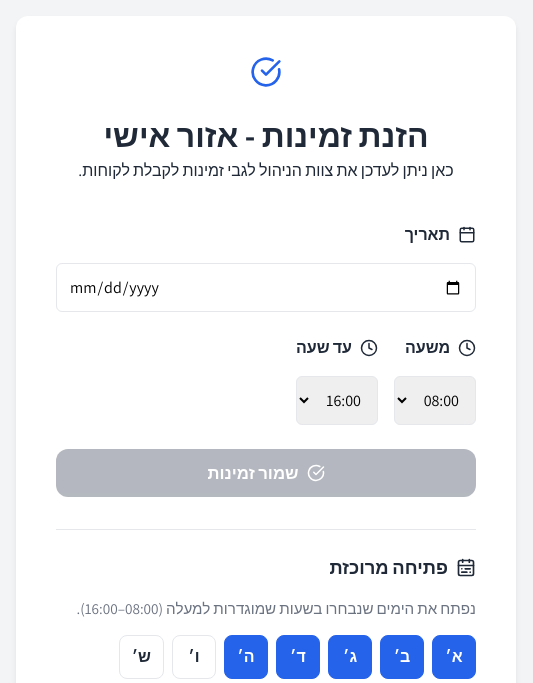
Test: EmployeeAvailabilityPage › rejects a window that overlaps an existing entry on the same date
Type "2099-01-05" into the date field labelled "תאריך". click: (266, 288)
box: [56,263,476,312]
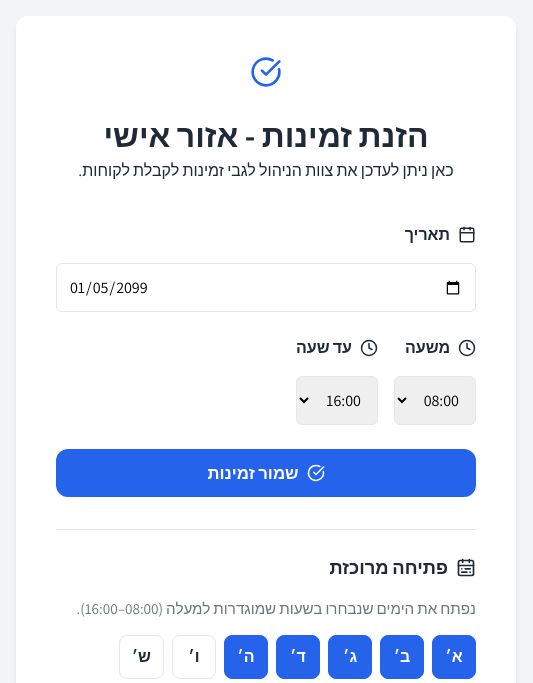
Select "08:00" in the dropdown labelled "משעה". click: (435, 400)
box: [394,376,476,425]
Select "16:00" in the dropdown labelled "עד שעה". click: (337, 400)
box: [296,376,378,425]
Submit the form "תאריך משעה עד שעה שמור זמינות", box [56,223,476,497]
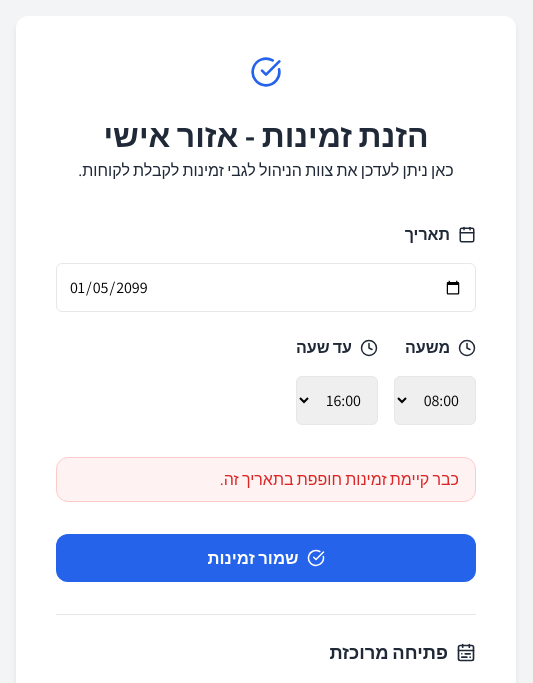
Expected: the text "כבר קיימת זמינות חופפת בתאריך זה." is shown, [56,457,476,502]
